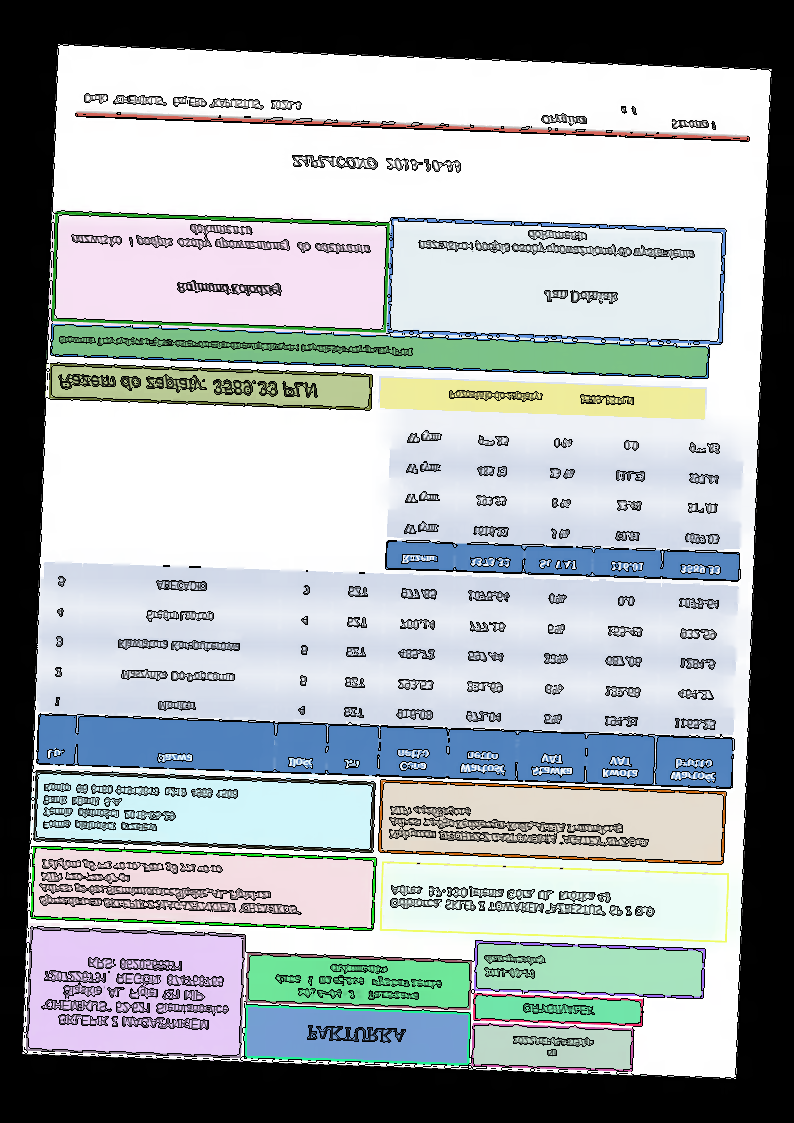Table: (35, 560, 740, 790), (384, 417, 746, 584)
TextBox: (35, 856, 307, 918), (39, 953, 233, 1033), (386, 802, 652, 851), (69, 218, 372, 257), (39, 781, 239, 838), (417, 224, 696, 263), (388, 882, 659, 920), (56, 333, 414, 359), (55, 371, 320, 403), (273, 959, 445, 1004), (539, 102, 719, 132), (82, 92, 302, 114), (291, 152, 462, 175), (448, 388, 634, 408), (303, 1022, 408, 1046), (510, 1032, 596, 1061), (174, 279, 282, 299), (481, 952, 546, 981), (542, 286, 621, 307), (520, 1001, 597, 1019)
